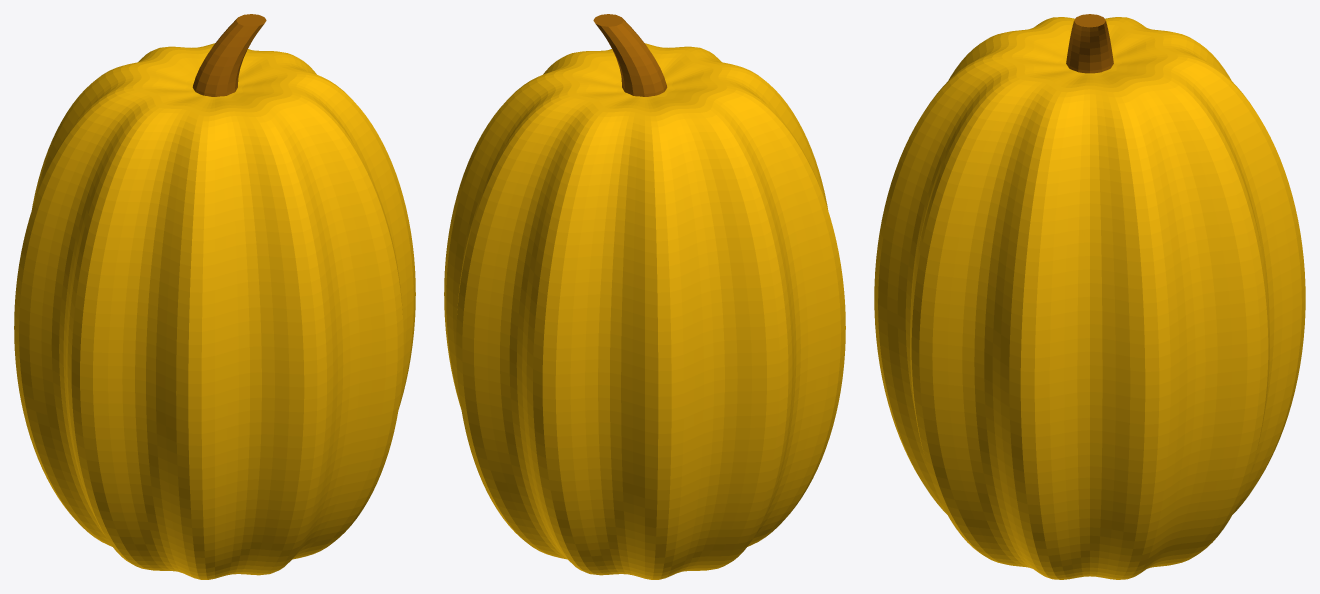
The model's file is tall.glb.
3 renders of one model, left to right at view 1: azimuth 30°, elevation 25°; view 2: azimuth 150°, elevation 25°; view 3: azimuth 270°, elevation 25°, orthographic. The views are drawn at different scales.
Visible parts, largest first — view 1: body, lid, stem; view 2: body, lid, stem; view 3: body, lid, stem.
Part boxes in pixels (x1,y1,x2,y2): body: (14,104,415,579); lid: (64,43,365,193); stem: (192,14,266,96); body: (444,104,845,579); lid: (494,43,795,193); stem: (593,14,667,96); body: (874,69,1305,579); lid: (927,17,1252,172); stem: (1066,14,1113,73).
Size of the model in its own units: 1.68 by 2.41 by 1.75.
